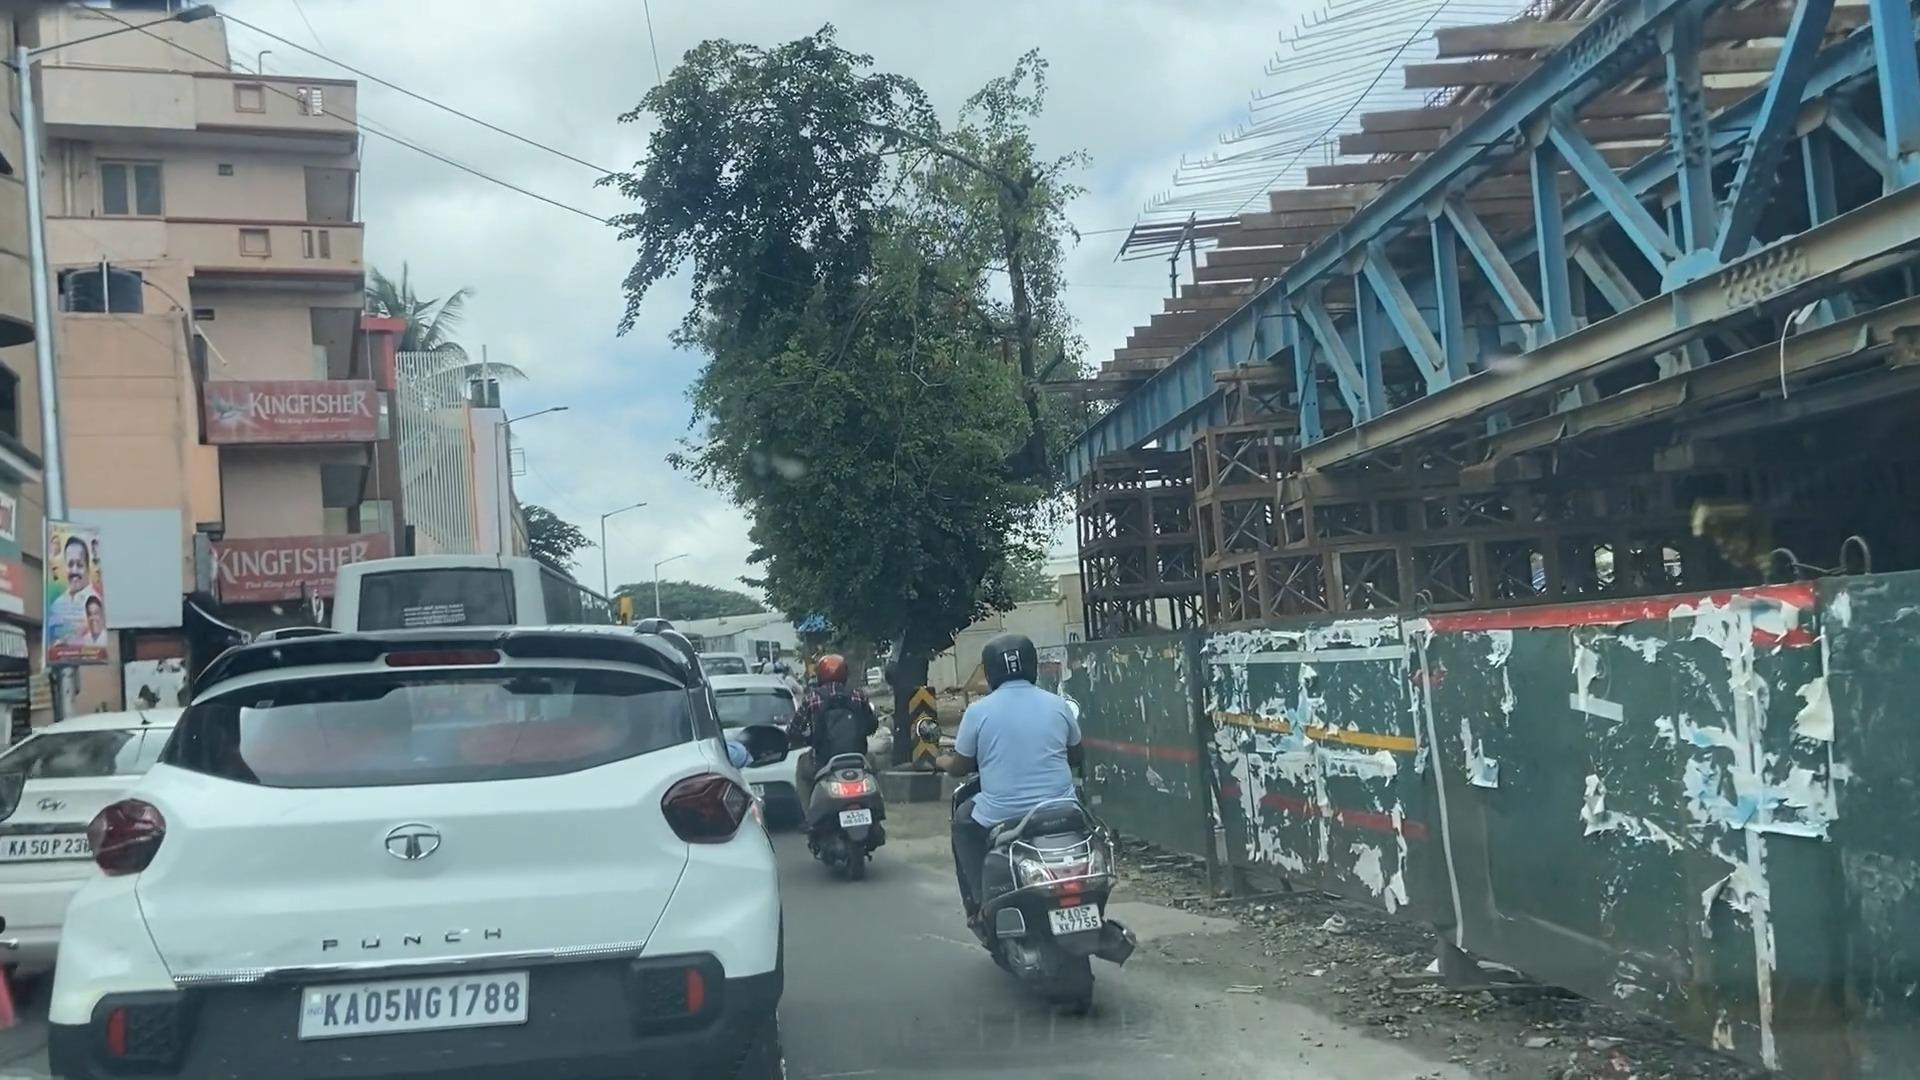LMV: (105, 634, 716, 1080), (960, 634, 1117, 998), (782, 644, 886, 851)
